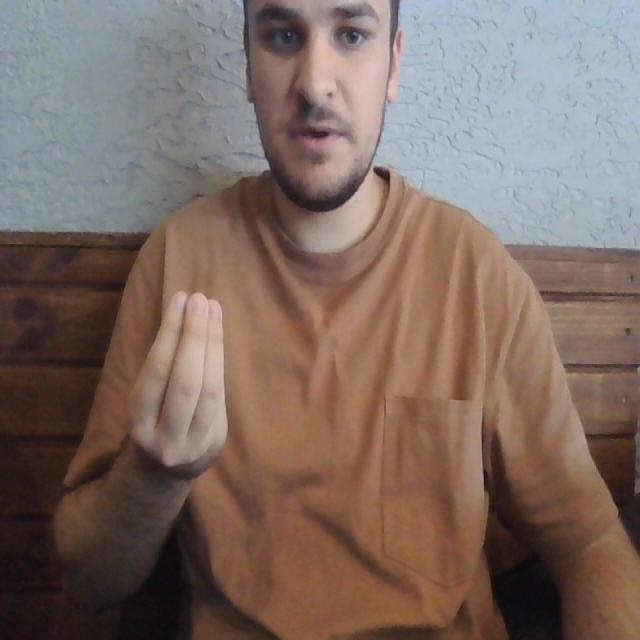iyi: (122, 284, 230, 475)
